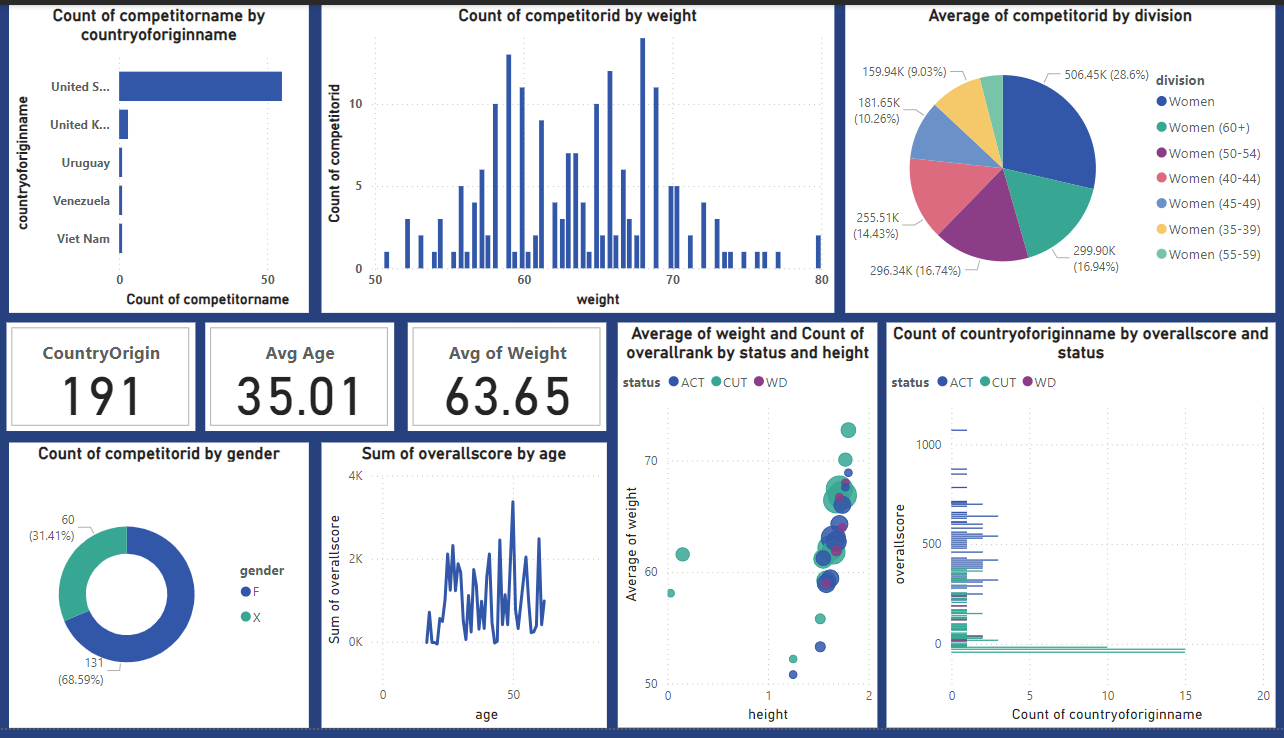

The page's visual inventory and layout, read from the dashboard file:
{"tool":"powerbi","page":{"name":"Page 1","canvas":[1280,720],"ordinal":0},"visuals":[{"type":"clusteredBarChart","fields":{"Category":["2019_games_athletes_women.countryoforiginname"],"Y":["CountNonNull(2019_games_athletes_women.competitorname)"]},"box":[10,0,298.6,306],"z":0},{"type":"donutChart","fields":{"Y":["CountNonNull(2019_games_athletes_women.competitorid)"],"Category":["2019_games_athletes_women.gender"]},"box":[10,435.4,298.6,283.6],"z":1000},{"type":"clusteredColumnChart","fields":{"Category":["2019_games_athletes_women.weight"],"Y":["CountNonNull(2019_games_athletes_women.competitorid)"]},"box":[320.9,0,510,306],"z":1001},{"type":"lineChart","fields":{"Category":["2019_games_athletes_women.age"],"Y":["Sum(2019_games_athletes_women.overallscore)"]},"box":[320.9,435.4,283.6,283.6],"z":1002},{"type":"barChart","fields":{"Y":["CountNonNull(2019_games_athletes_women.countryoforiginname)"],"Category":["2019_games_athletes_women.overallscore"],"Series":["2019_games_athletes_women.status"]},"box":[883.2,316,386.9,403],"z":1003},{"type":"scatterChart","fields":{"X":["2019_games_athletes_women.height"],"Y":["Avg(2019_games_athletes_women.weight)"],"Size":["CountNonNull(2019_games_athletes_women.overallrank)"],"Series":["2019_games_athletes_women.status"]},"box":[615.8,316,258.7,403],"z":1004},{"type":"pieChart","fields":{"Y":["Avg(2019_games_athletes_women.competitorid)"],"Category":["2019_games_athletes_women.division"]},"box":[842.2,0,427.9,306],"z":1005},{"type":"cardVisual","fields":{"Data":["CountNonNull(2019_games_athletes_women.countryoforigincode)"]},"box":[7.5,316,187.8,108.2],"z":1006},{"type":"cardVisual","fields":{"Data":["Avg(2019_games_athletes_women.age)"]},"box":[205.3,316,187.8,108.2],"z":1007},{"type":"cardVisual","fields":{"Data":["Avg(2019_games_athletes_women.weight)"]},"box":[406.8,316,197.8,108.2],"z":1008}]}

Visuals, with their boxes in screenshot pixels (x1, y1, x2, y2), scaled from the page's 1280x720 canvas onto the 1284x738 screenshot:
clusteredBarChart - 2019_games_athletes_women.countryoforiginname x CountNonNull(2019_games_athletes_women.competitorname): 10:0:310:314
donutChart - CountNonNull(2019_games_athletes_women.competitorid) x 2019_games_athletes_women.gender: 10:446:310:737
clusteredColumnChart - 2019_games_athletes_women.weight x CountNonNull(2019_games_athletes_women.competitorid): 322:0:833:314
lineChart - 2019_games_athletes_women.age x Sum(2019_games_athletes_women.overallscore): 322:446:606:737
barChart - CountNonNull(2019_games_athletes_women.countryoforiginname) x 2019_games_athletes_women.overallscore: 886:324:1274:737
scatterChart - 2019_games_athletes_women.height x Avg(2019_games_athletes_women.weight): 618:324:877:737
pieChart - Avg(2019_games_athletes_women.competitorid) x 2019_games_athletes_women.division: 845:0:1274:314
cardVisual - CountNonNull(2019_games_athletes_women.countryoforigincode): 8:324:196:435
cardVisual - Avg(2019_games_athletes_women.age): 206:324:394:435
cardVisual - Avg(2019_games_athletes_women.weight): 408:324:606:435
